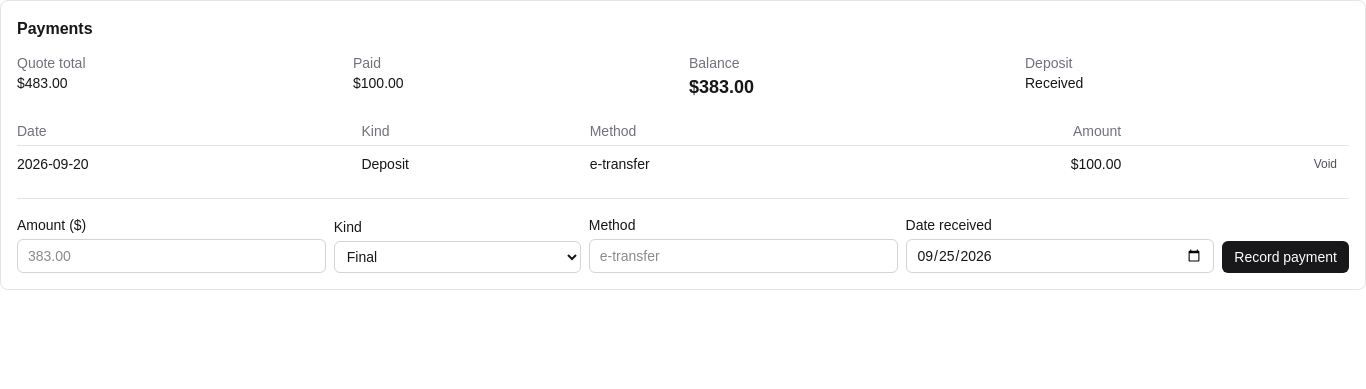
Scenario: PaymentsPanel › voids a payment only with a reason
Click the button "Void".
click(1325, 164)  # box x1=1302 y1=150 x2=1349 y2=178
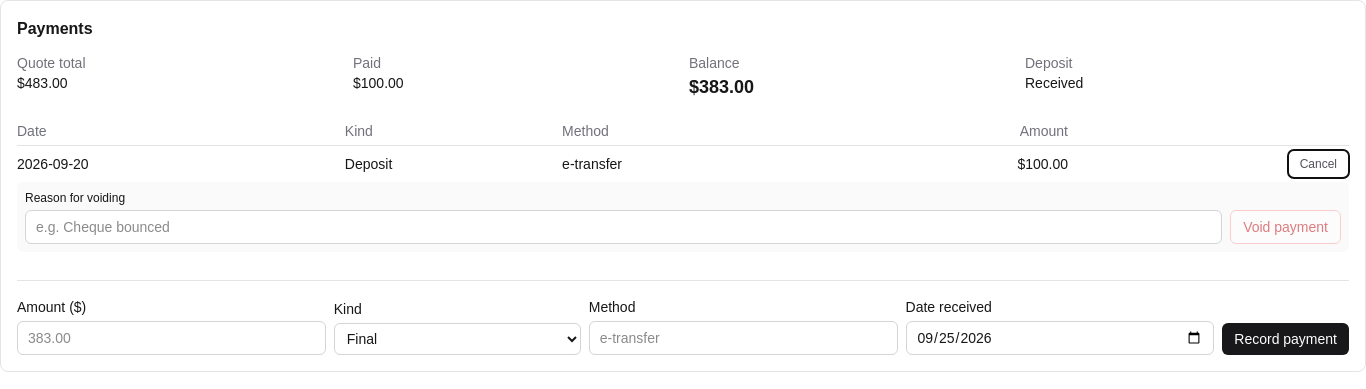
Expected: the button "Void payment" is disabled, x1=1230 y1=210 x2=1341 y2=244
Type "Cheque bounced" into the field labelled "Reason for voiding".
click(624, 227); type("Cheque bounced")  # box x1=25 y1=210 x2=1222 y2=244
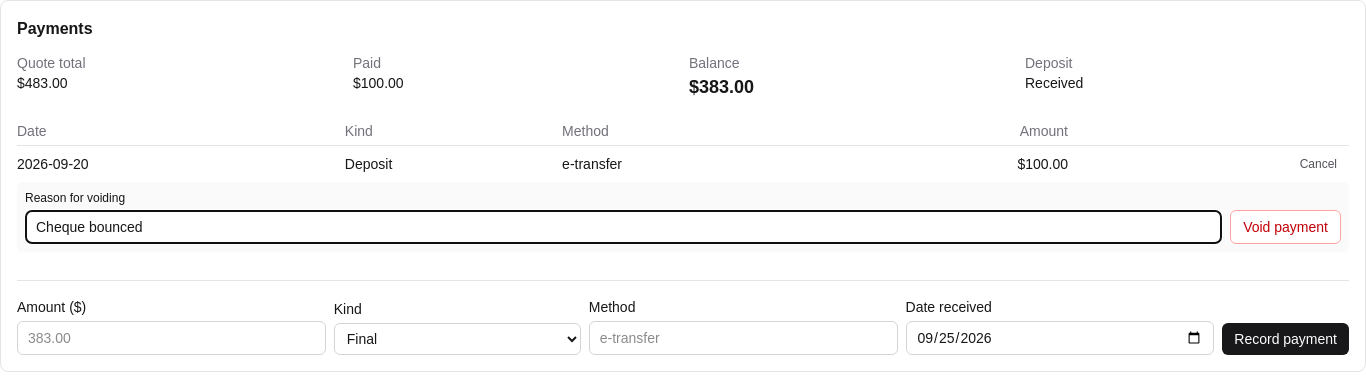
Click the button "Void payment".
click(1286, 227)  # box x1=1230 y1=210 x2=1341 y2=244
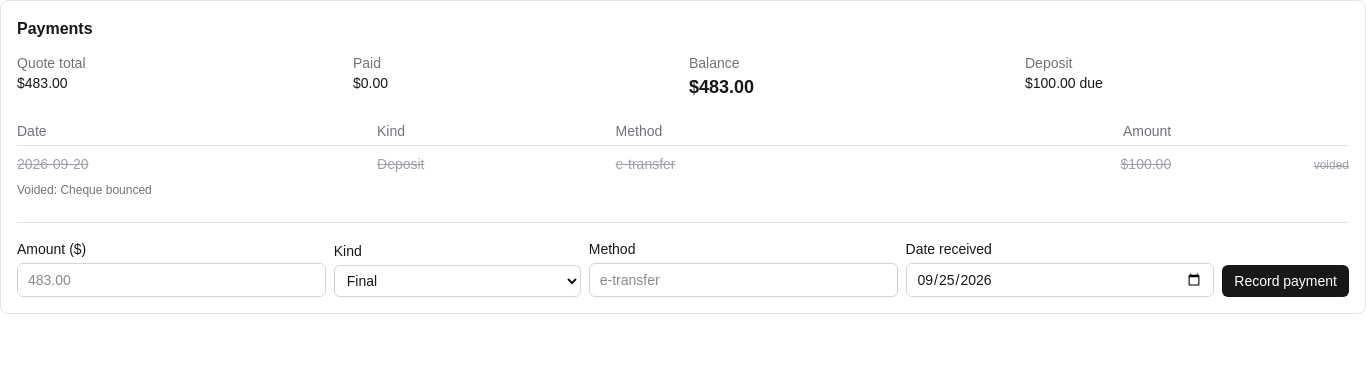
Expected: the text "Voided: Cheque bounced" is shown, x1=17 y1=182 x2=1349 y2=206
